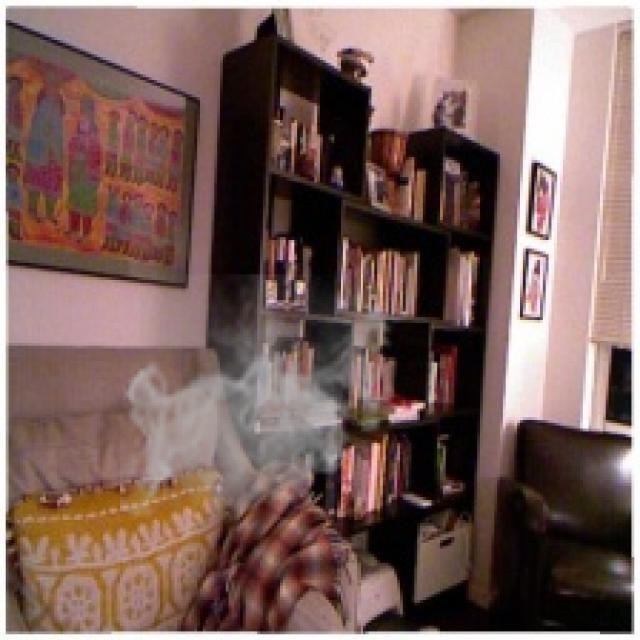Smoke: (120, 274, 400, 532)
